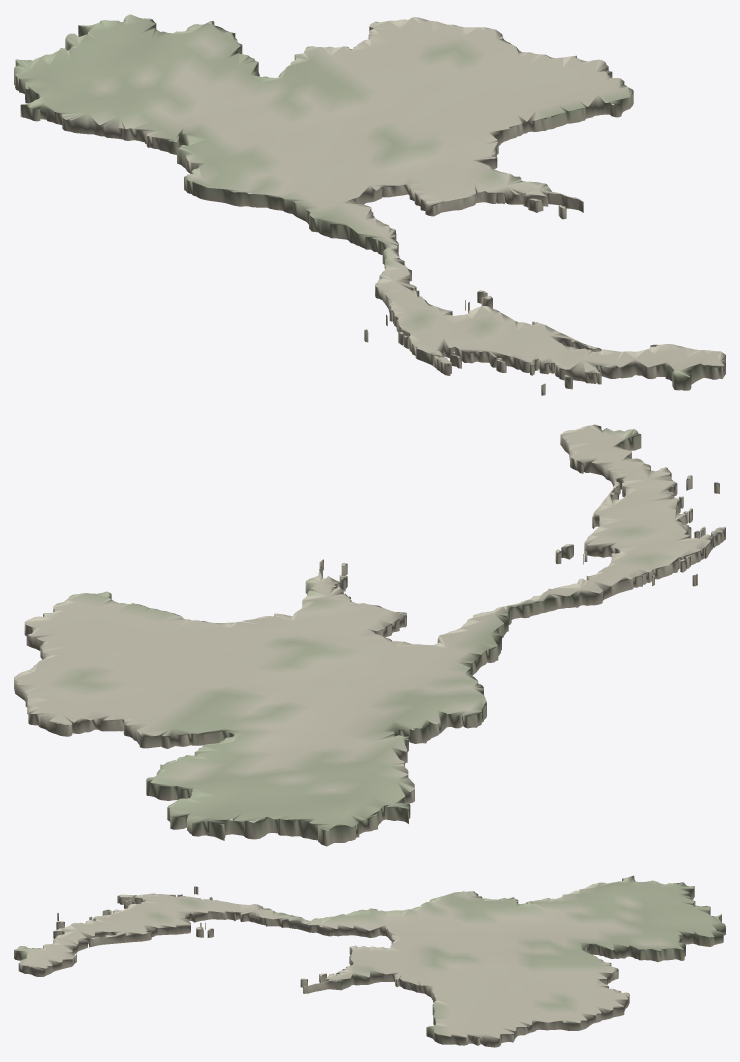
File: th-mobile.glb
The picture shows the model from 3 angles, top to bottom: view 1: azimuth 30°, elevation 25°; view 2: azimuth 150°, elevation 25°; view 3: azimuth 270°, elevation 25°; orthographic projection. The views are drawn at different scales.
Size of the model in its own units: 54.32 by 1.89 by 99.93.
